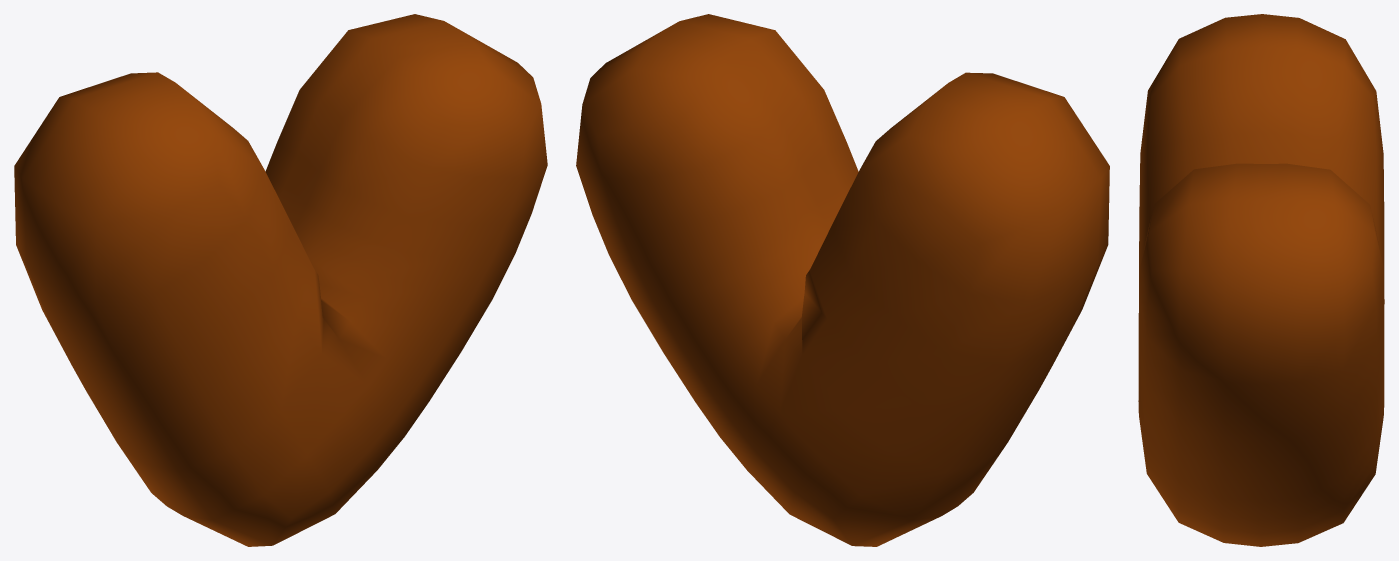
3 renders of one model, left to right at view 1: azimuth 30°, elevation 25°; view 2: azimuth 150°, elevation 25°; view 3: azimuth 270°, elevation 25°, orthographic. The views are drawn at different scales.
Visible parts, largest first — view 1: Object_46; view 2: Object_46; view 3: Object_46.
Boxes of the visible parts, x1=… form: Object_46: x1=14, y1=14, x2=547, y2=546; Object_46: x1=576, y1=14, x2=1109, y2=546; Object_46: x1=1138, y1=14, x2=1384, y2=546.
Bounding box in the file's own units: 0.9577 × 0.8752 × 0.4271.
